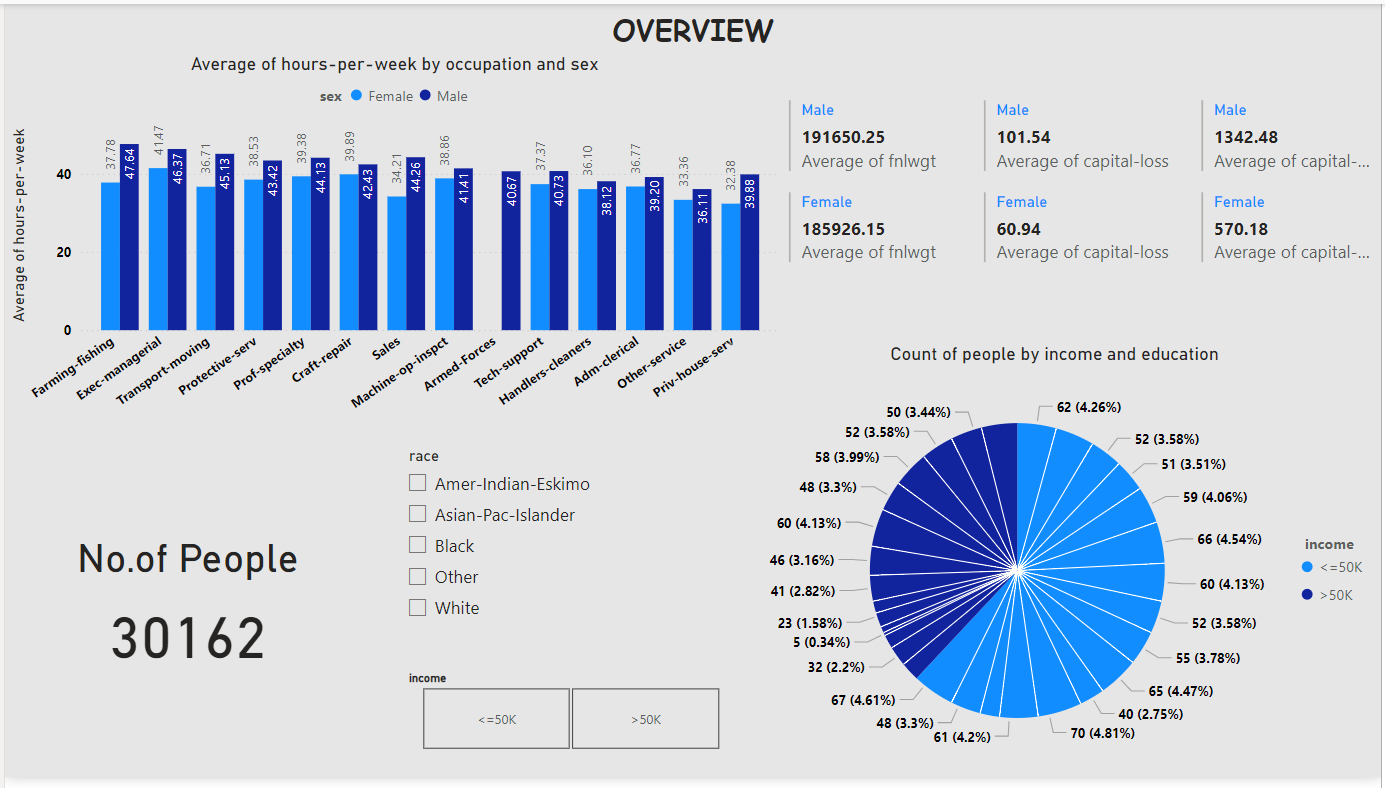

The page's visual inventory and layout, read from the dashboard file:
{"tool":"powerbi","page":{"name":"Overview","canvas":[1280,720],"ordinal":0},"visuals":[{"type":"textbox","box":[0,0,1280.2,57],"z":0},{"type":"clusteredColumnChart","fields":{"Category":["income_evaluation. occupation"],"Y":["Avg(income_evaluation. hours-per-week)"],"Series":["income_evaluation. sex"]},"box":[0,45,725,350],"z":1000},{"type":"pieChart","title":"Count of people by  income and  education","fields":{"Category":["income_evaluation. income"],"Y":["Count(income_evaluation.age)"],"Series":["income_evaluation. education"]},"box":[673.8,315,606.2,405],"z":2000},{"type":"card","title":"No.of People","fields":{"Values":["CountNonNull(income_evaluation.age)"]},"box":[0,494.2,340.7,134.9],"z":3000},{"type":"slicer","fields":{"Values":["income_evaluation. race"]},"box":[362.5,407.5,312.5,183.8],"z":4000},{"type":"slicer","fields":{"Values":["income_evaluation. income"]},"box":[362.8,615.1,325.6,84.9],"z":9000},{"type":"multiRowCard","fields":{"Values":["Avg(income_evaluation. fnlwgt)","income_evaluation. sex"]},"box":[724.4,84.9,181.4,189.5],"z":10000},{"type":"multiRowCard","fields":{"Values":["Avg(income_evaluation. capital-loss)","income_evaluation. sex"]},"box":[905.8,84.9,195.3,179.1],"z":14000},{"type":"multiRowCard","fields":{"Values":["Avg(income_evaluation. capital-gain)","income_evaluation. sex"]},"box":[1108.1,84.9,172.1,179.1],"z":15000}]}

Visuals, with their boxes in screenshot pixels (x1, y1, x2, y2), scaled from the page's 1280x720 canvas onto the 1385x788 screenshot:
textbox: region(0, 0, 1384, 62)
clusteredColumnChart - income_evaluation. occupation x Avg(income_evaluation. hours-per-week): region(0, 49, 784, 432)
"Count of people by  income and  education" pieChart: region(729, 345, 1384, 787)
"No.of People" card: region(0, 541, 369, 689)
slicer - income_evaluation. race: region(392, 446, 730, 647)
slicer - income_evaluation. income: region(393, 673, 745, 766)
multiRowCard - Avg(income_evaluation. fnlwgt) x income_evaluation. sex: region(784, 93, 980, 300)
multiRowCard - Avg(income_evaluation. capital-loss) x income_evaluation. sex: region(980, 93, 1191, 289)
multiRowCard - Avg(income_evaluation. capital-gain) x income_evaluation. sex: region(1199, 93, 1384, 289)
